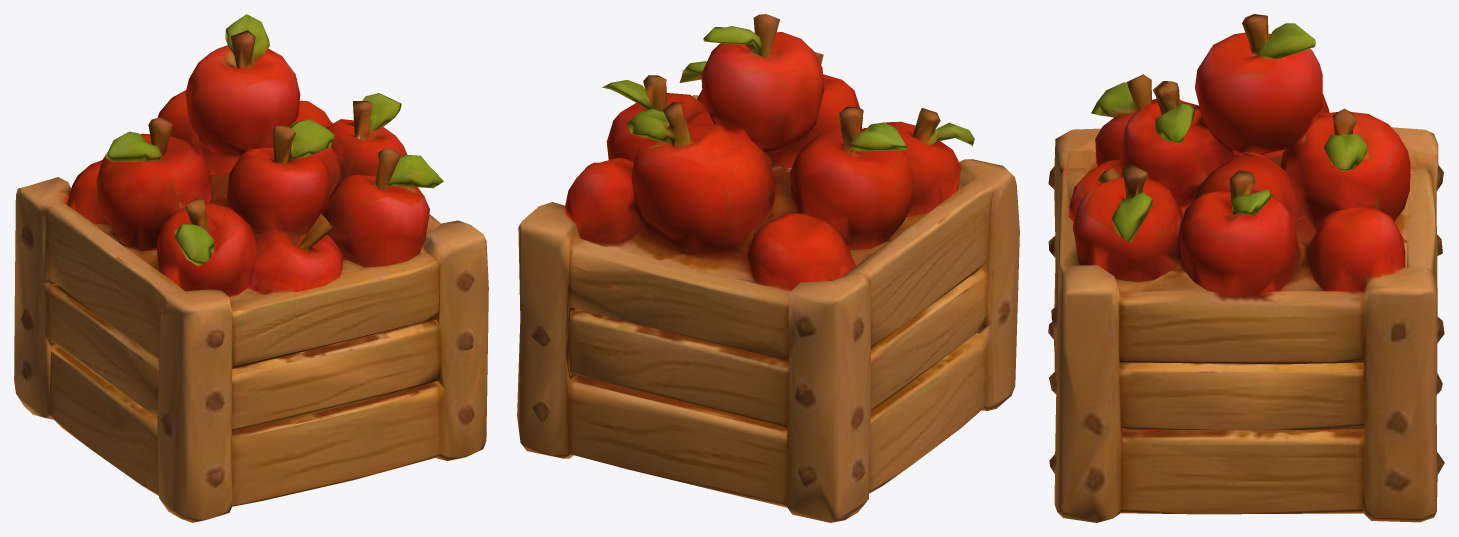
The model's file is apple_crate.glb.
3 views of the same model, side by side, from view 1: azimuth 30°, elevation 25°; view 2: azimuth 150°, elevation 25°; view 3: azimuth 270°, elevation 25° (orthographic). The views are drawn at different scales.
Visible parts, largest first — view 1: textured_mesh.obj; view 2: textured_mesh.obj; view 3: textured_mesh.obj.
Boxes of the visible parts, x1,y1,x2,y2 form: textured_mesh.obj: (14,14,488,522); textured_mesh.obj: (517,14,1019,522); textured_mesh.obj: (1048,14,1444,522).
Size of what is drawn, in the model's own units: 0.5524 by 0.65 by 0.5446.
Materials: 1 (1 with a texture image).
